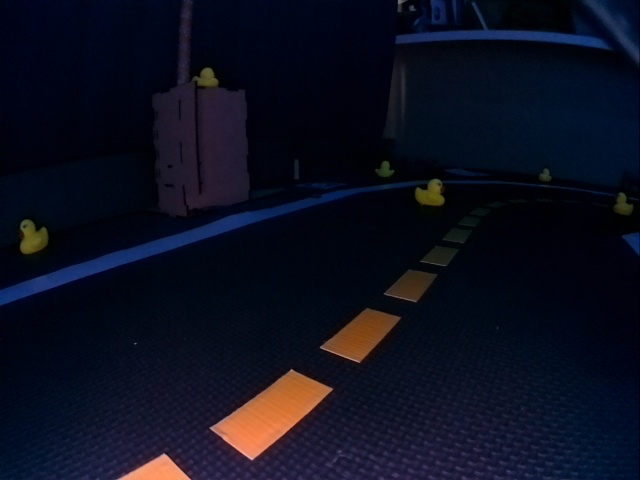Duckie: (18, 219, 48, 254), (415, 178, 442, 204), (613, 192, 633, 216), (194, 67, 218, 85), (375, 161, 391, 174), (539, 169, 549, 179)
